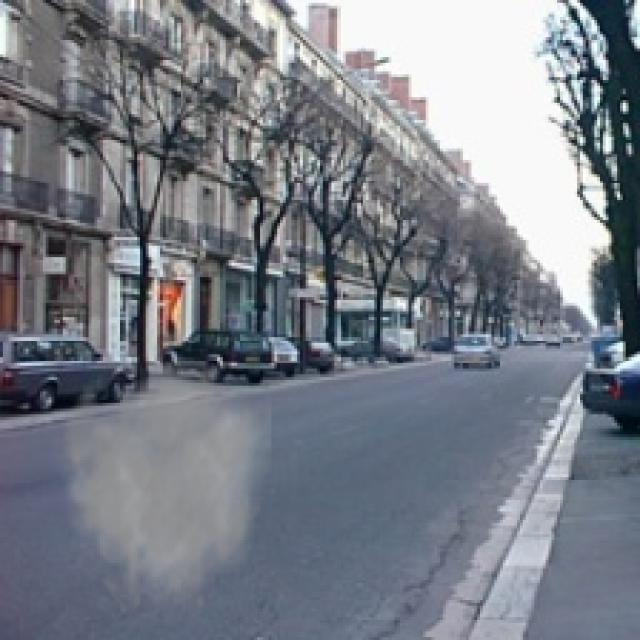smoke: (46, 349, 271, 620)
